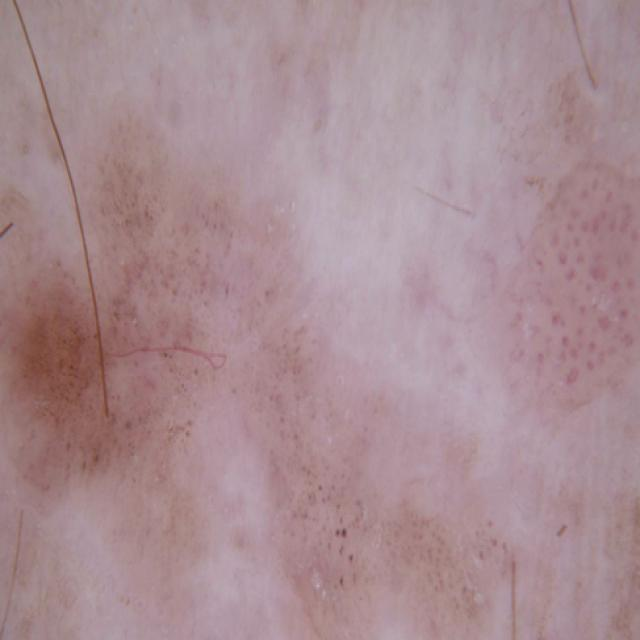Carcinoma: (226, 381, 496, 640), (0, 133, 189, 456), (493, 97, 640, 385)
